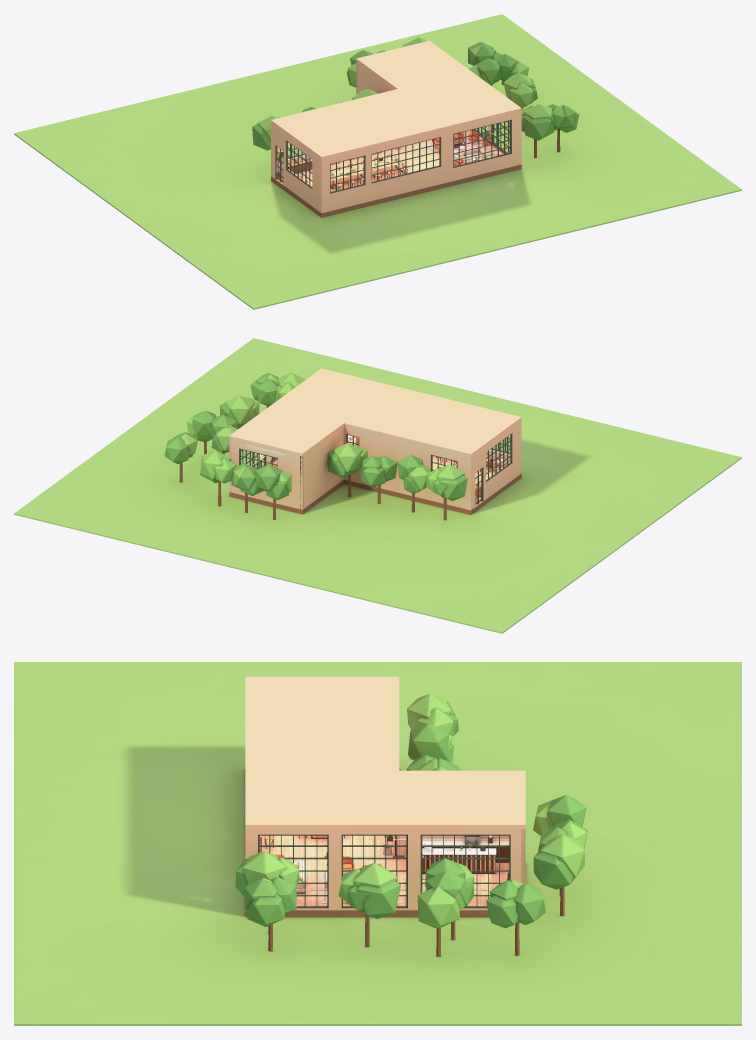
Rendered from study_room.glb.
3 views of the same model, one above another, from view 1: azimuth 30°, elevation 25°; view 2: azimuth 150°, elevation 25°; view 3: azimuth 270°, elevation 25° (orthographic). The views are drawn at different scales.
Visible parts, largest first — view 1: room_props, room_shell, room_outdoors; view 2: room_props, room_shell, room_outdoors; view 3: room_props, room_shell, room_outdoors.
Boxes of the visible parts, x1,y1,x2,y2 form: room_props: (14, 14, 741, 309); room_shell: (271, 40, 521, 217); room_outdoors: (252, 37, 579, 157); room_props: (14, 338, 741, 633); room_shell: (229, 368, 521, 514); room_outdoors: (164, 372, 467, 520); room_props: (14, 662, 741, 1025); room_shell: (245, 676, 525, 917); room_outdoors: (235, 693, 587, 956).
Bounding box in the file's own units: 40 × 4.85 × 34.
2 materials, 2 textured.
